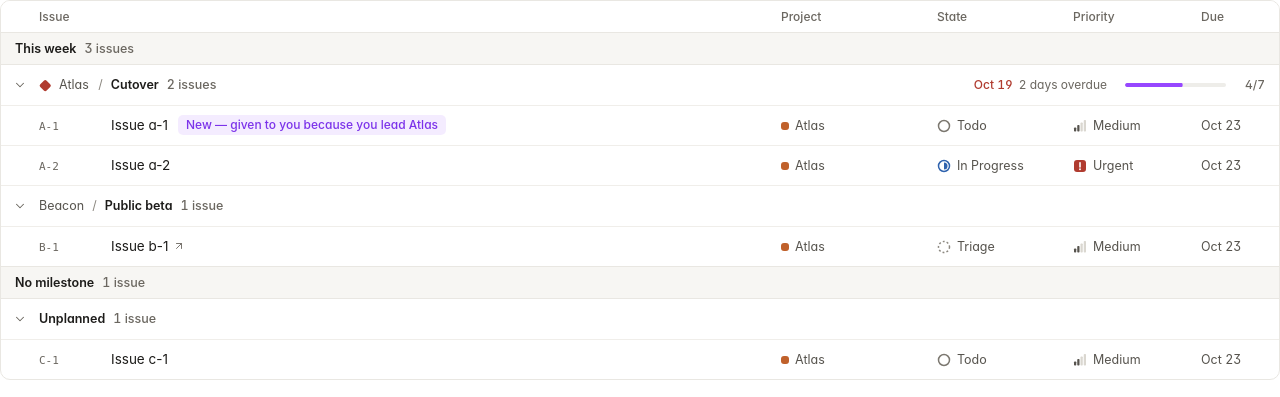
Test: TaskGroupTable collapse › the toggle is a disclosure that hides and shows rows
Click the button named "Atlas, Cutover": click(20, 85) [9, 74, 31, 96]
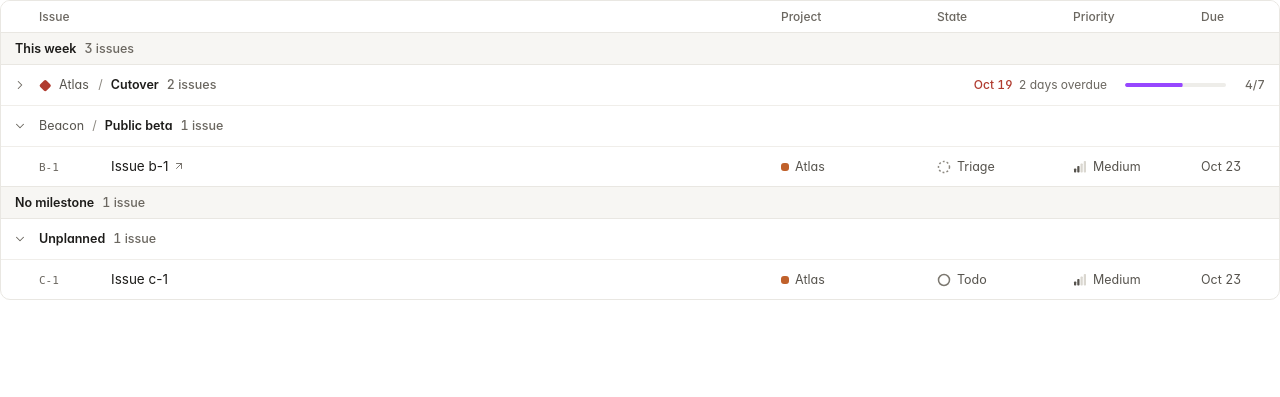
Expected: the button named "Atlas, Cutover" is collapsed
Expected: the link "Issue a-1" is gone
Click the button named "Atlas, Cutover": click(20, 85) [9, 74, 31, 96]
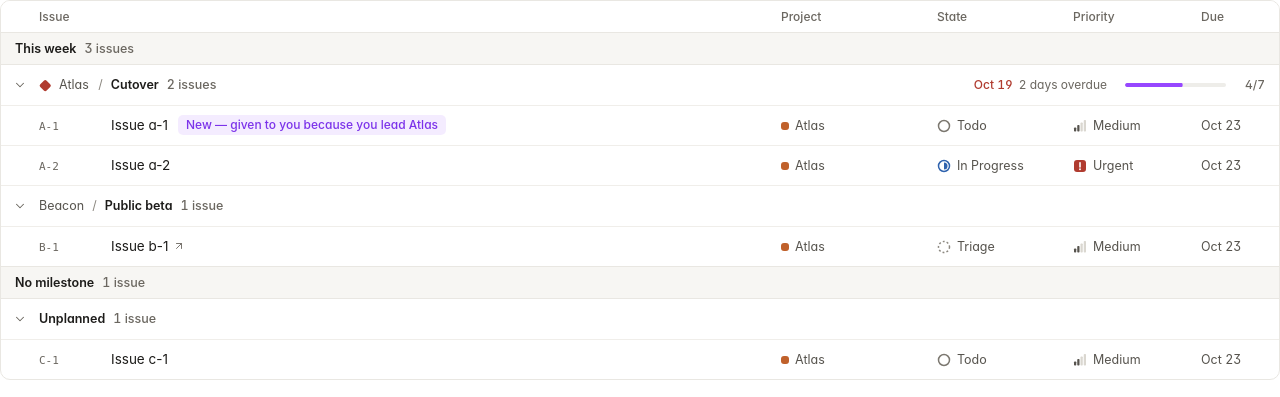
Expected: the link "Issue a-1" is shown, [111, 117, 168, 133]
